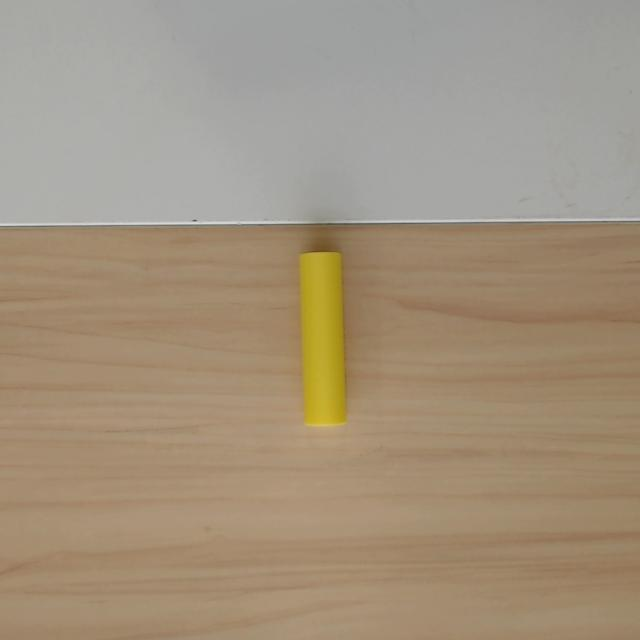Silinder-Kuning-10025: (298, 251, 347, 426)
